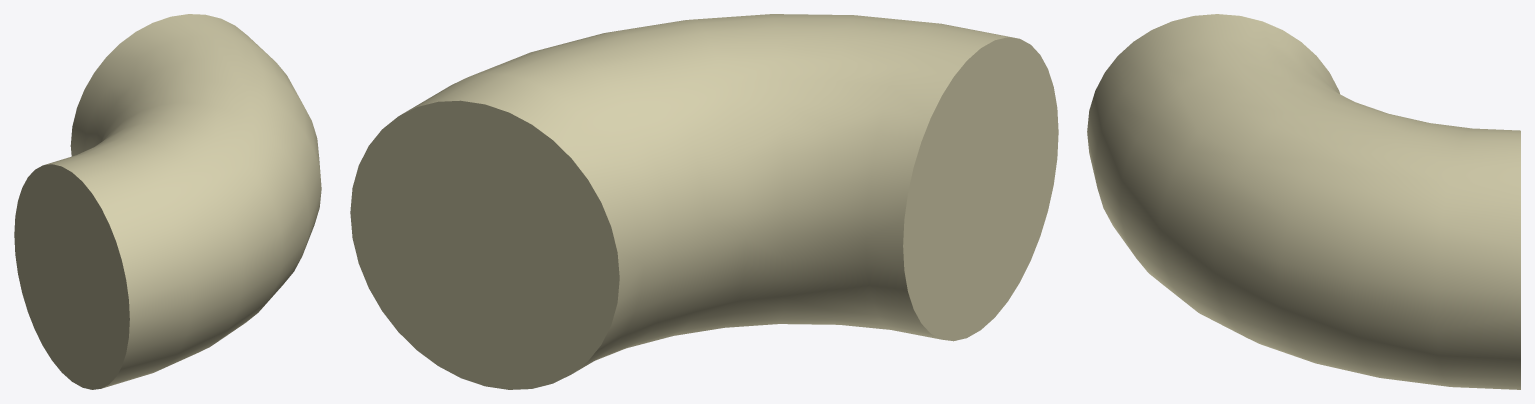
Rendered from Shape_Pipe_90.FBX.
3 views of the same model, side by side, from view 1: azimuth 30°, elevation 25°; view 2: azimuth 150°, elevation 25°; view 3: azimuth 270°, elevation 25° (orthographic). The views are drawn at different scales.
Parts seen in each view (by area): view 1: Shape_Pipe_90; view 2: Shape_Pipe_90; view 3: Shape_Pipe_90.
Part boxes in pixels (left/top/right/bottom): Shape_Pipe_90: left=14, top=14, right=321, bottom=389; Shape_Pipe_90: left=350, top=14, right=1058, bottom=389; Shape_Pipe_90: left=1087, top=14, right=1520, bottom=389.
Size of what is drawn, in the model's own units: 50 by 50 by 30.
